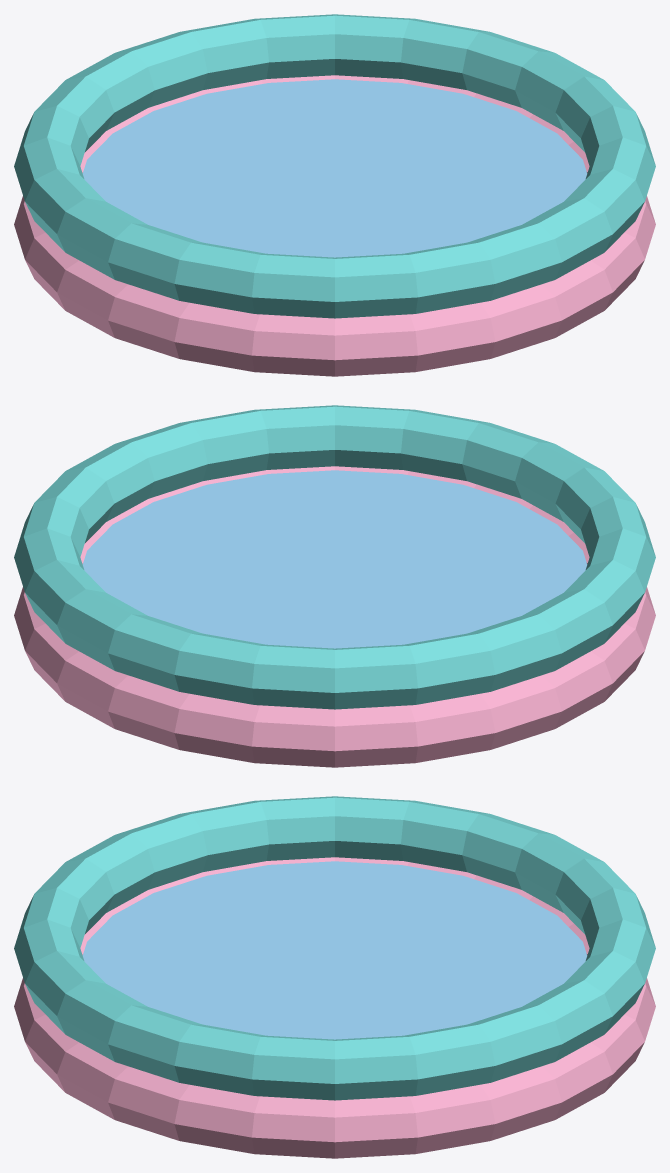
File: SM_Backyard_KiddiePool.fbx
The picture shows the model from 3 angles, top to bottom: view 1: azimuth 30°, elevation 25°; view 2: azimuth 150°, elevation 25°; view 3: azimuth 270°, elevation 25°; orthographic projection.
Parts seen in each view (by area): view 1: SM_Backyard_KiddiePool; view 2: SM_Backyard_KiddiePool; view 3: SM_Backyard_KiddiePool.
Part boxes in pixels (x1,y1,x2,y2): SM_Backyard_KiddiePool: (14,14,655,376); SM_Backyard_KiddiePool: (14,405,655,767); SM_Backyard_KiddiePool: (14,796,655,1158).
Size of the model in its own units: 150 by 150 by 30.
